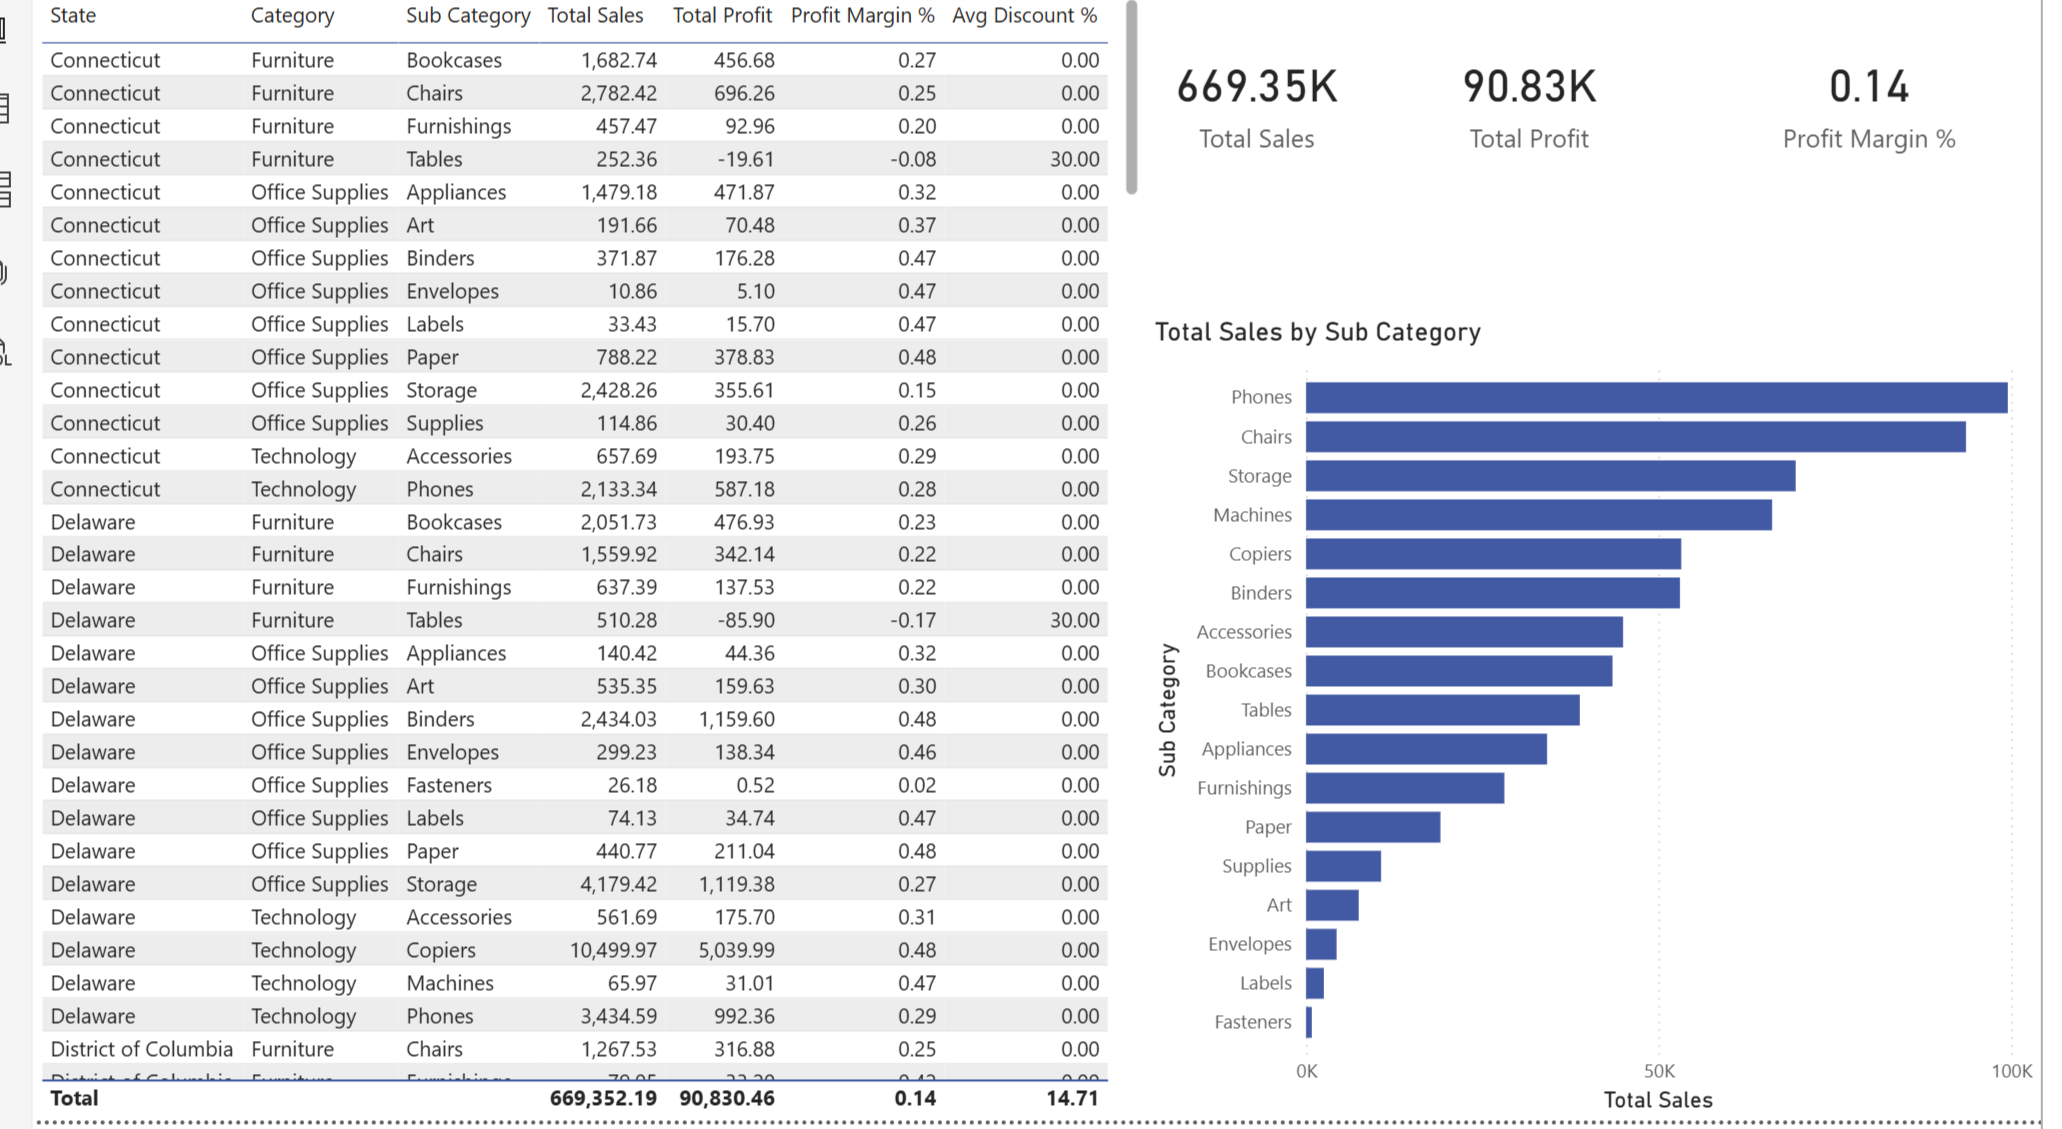

This screenshot's page, from the dashboard's own definition file:
{"tool":"powerbi","page":{"name":"Drill Through Detail","canvas":[1280,720],"ordinal":4},"visuals":[{"type":"tableEx","fields":{"Values":["SampleSuperstore.State","SampleSuperstore.Category","SampleSuperstore.Sub Category","SampleSuperstore.Total Sales","SampleSuperstore.Total Profit","SampleSuperstore.Profit Margin %","SampleSuperstore.Avg Discount %"]},"box":[0,0,710.1,720.3],"z":0},{"type":"clusteredBarChart","fields":{"Category":["SampleSuperstore.Sub Category"],"Y":["SampleSuperstore.Total Sales"]},"box":[710.1,207.8,569.9,512.5],"z":1000},{"type":"card","fields":{"Values":["SampleSuperstore.Total Sales"]},"box":[710.1,0,140.2,139],"z":2000},{"type":"card","fields":{"Values":["SampleSuperstore.Total Profit"]},"box":[845.1,0,217.4,138.8],"z":3000},{"type":"card","fields":{"Values":["SampleSuperstore.Profit Margin %"]},"box":[1062.6,0,217.4,138.8],"z":4000}]}

Visuals, with their boxes on the page's 1280x720 design canvas (x1, y1, x2, y2). These are canvas units, not pixel positions in the 2062x1129 screenshot, which may show the page scaled, cropped or inside an application window:
tableEx - SampleSuperstore.State x SampleSuperstore.Category: bbox(0, 0, 710, 720)
clusteredBarChart - SampleSuperstore.Sub Category x SampleSuperstore.Total Sales: bbox(710, 208, 1280, 720)
card - SampleSuperstore.Total Sales: bbox(710, 0, 850, 139)
card - SampleSuperstore.Total Profit: bbox(845, 0, 1062, 139)
card - SampleSuperstore.Profit Margin %: bbox(1063, 0, 1280, 139)
